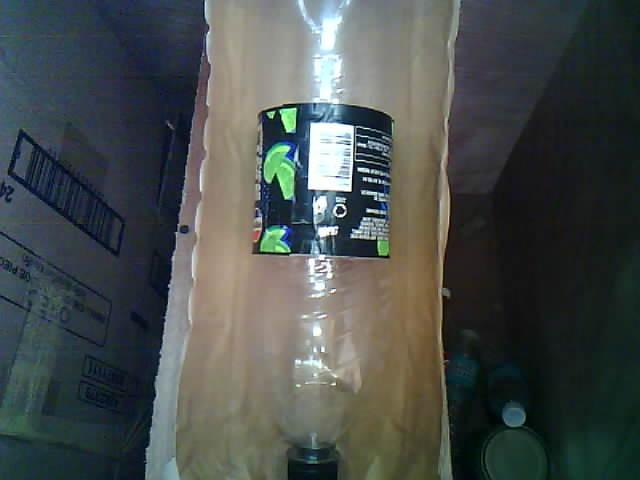large_bottle: (234, 0, 413, 480)
